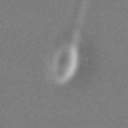normal: (60, 1, 98, 41)
